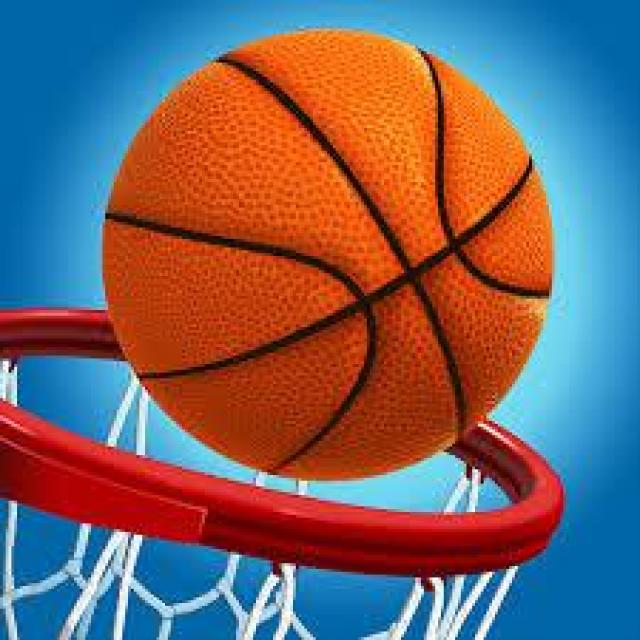ball: (91, 24, 568, 490)
